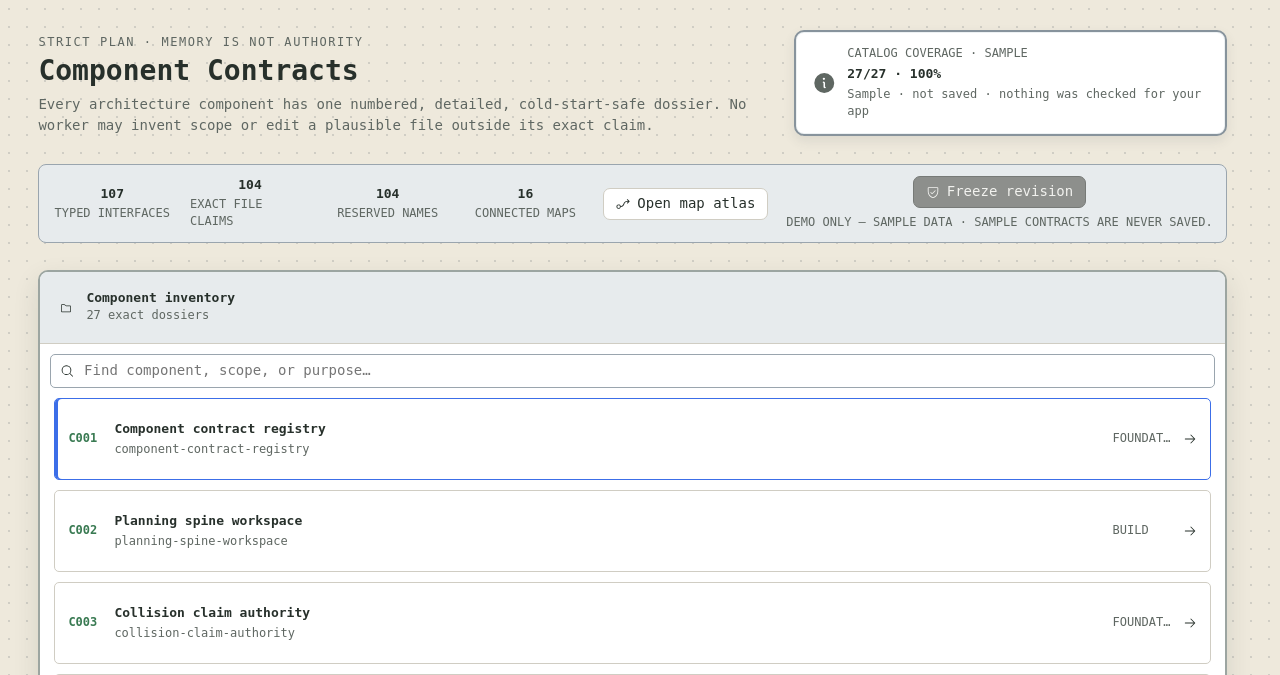
it: Define controls › Demo search that hides the selected component shows the first match instead
The width and height of the screenshot is (1280, 675).
In the field labelled "Find component, scope, or purpose": (643, 371) [82,359,1205,383], type "Planning spine workspace"
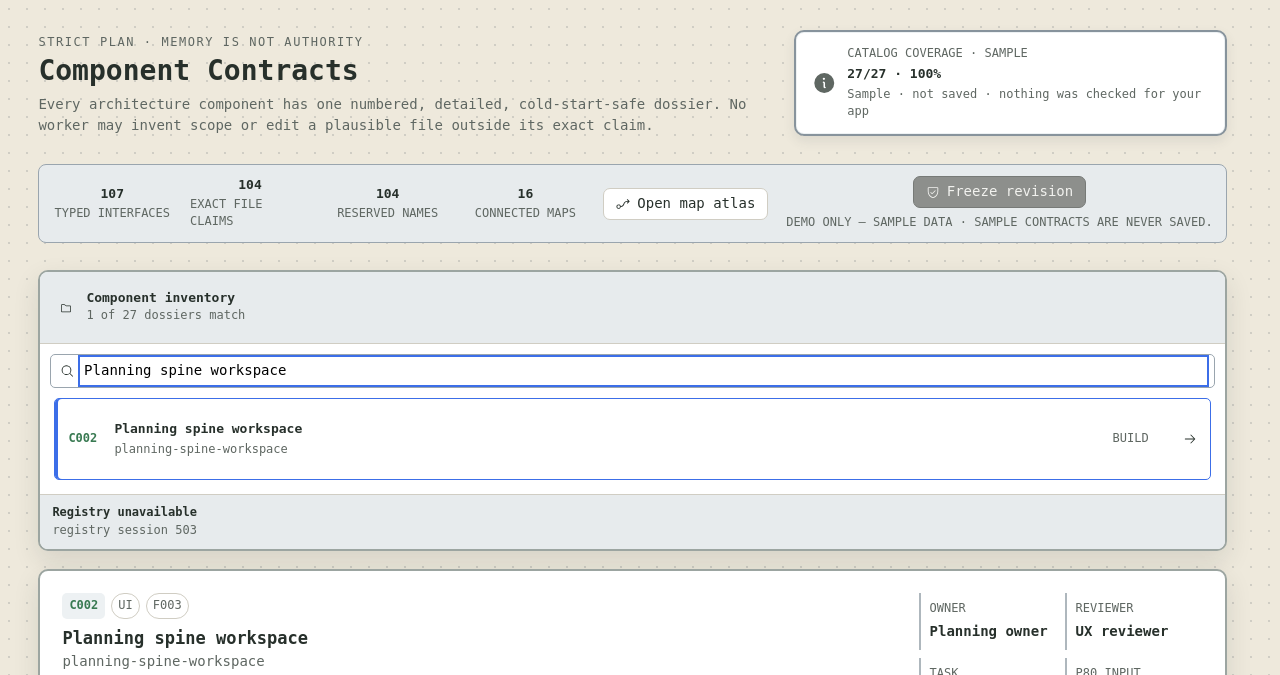
Expected: the text "Planning spine workspace" is shown, [114,421,302,436]
Now the heading "Planning spine workspace" is shown, box [62,628,308,648]
